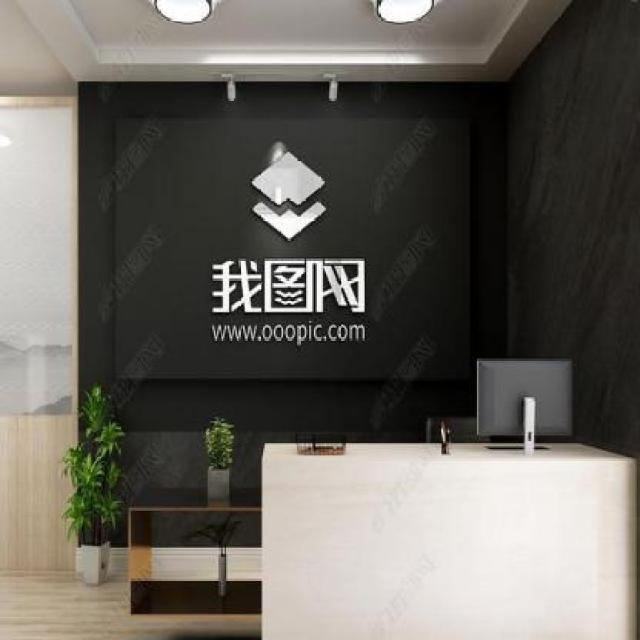frontdesk: (110, 424, 638, 640)
